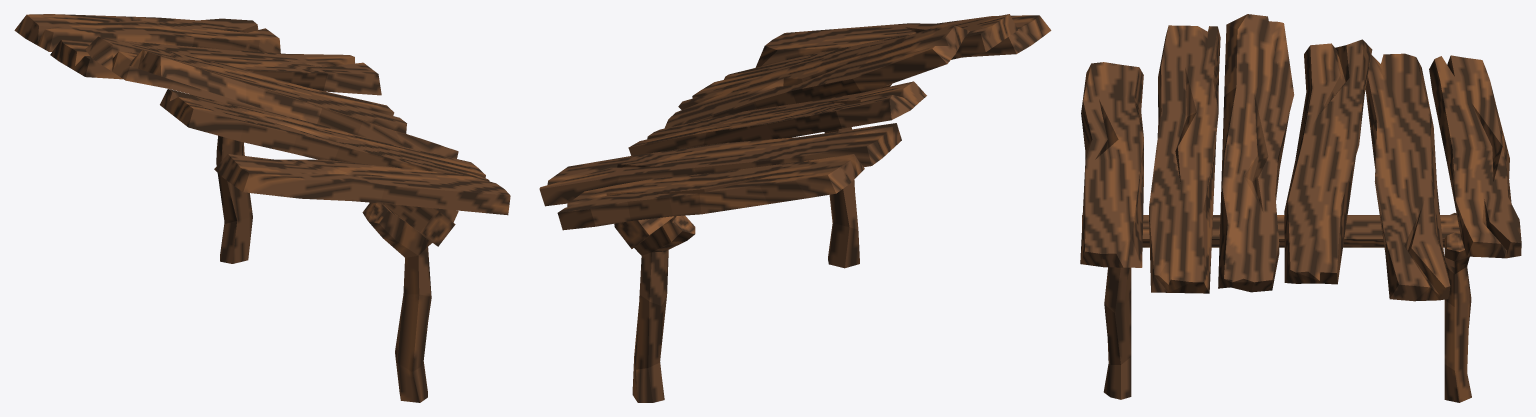
Rendered from Building_Extras1.fbx.
3 views of the same model, side by side, from view 1: azimuth 30°, elevation 25°; view 2: azimuth 150°, elevation 25°; view 3: azimuth 270°, elevation 25° (orthographic). The views are drawn at different scales.
Parts seen in each view (by area): view 1: Medium Building.001; view 2: Medium Building.001; view 3: Medium Building.001.
Boxes of the visible parts, x1=… form: Medium Building.001: x1=14, y1=14, x2=510, y2=402; Medium Building.001: x1=539, y1=14, x2=1051, y2=402; Medium Building.001: x1=1080, y1=14, x2=1521, y2=402.
Size of the model in its own units: 99.56 by 98.11 by 131.
